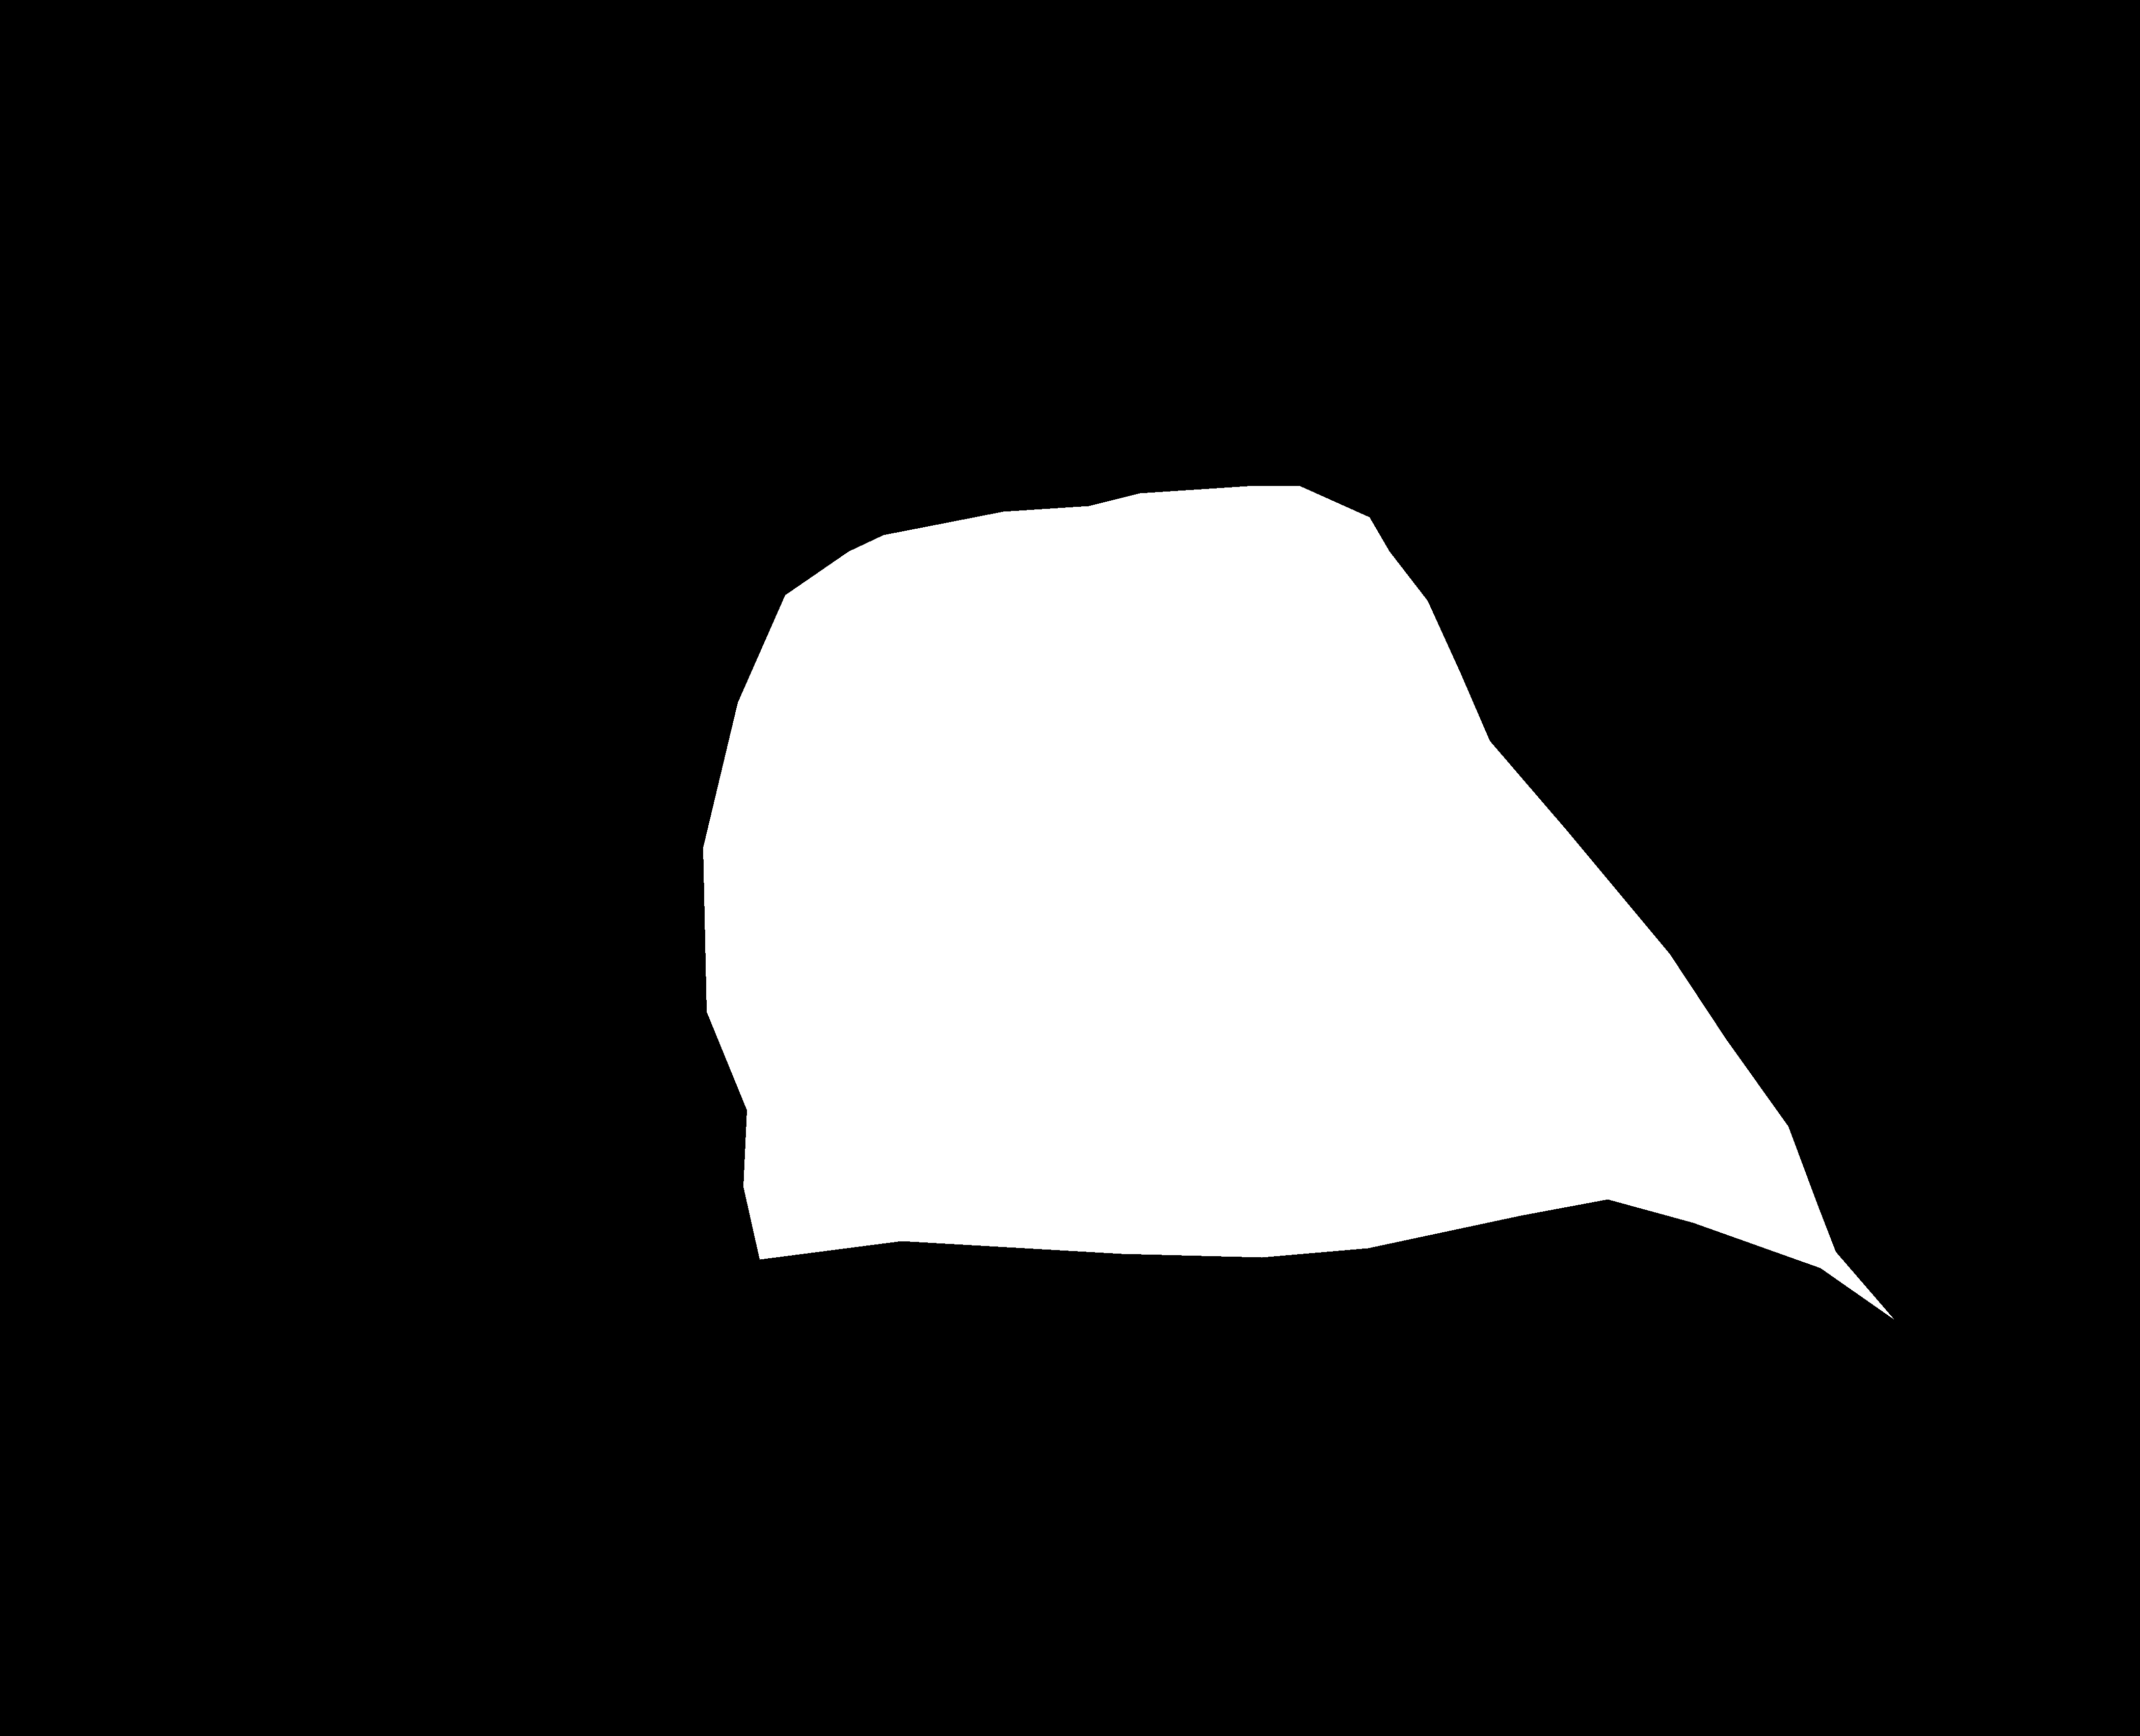heart: (703, 485, 1894, 1318)
left_lung: (229, 85, 946, 1325)
right_lung: (1151, 67, 2002, 1467)
